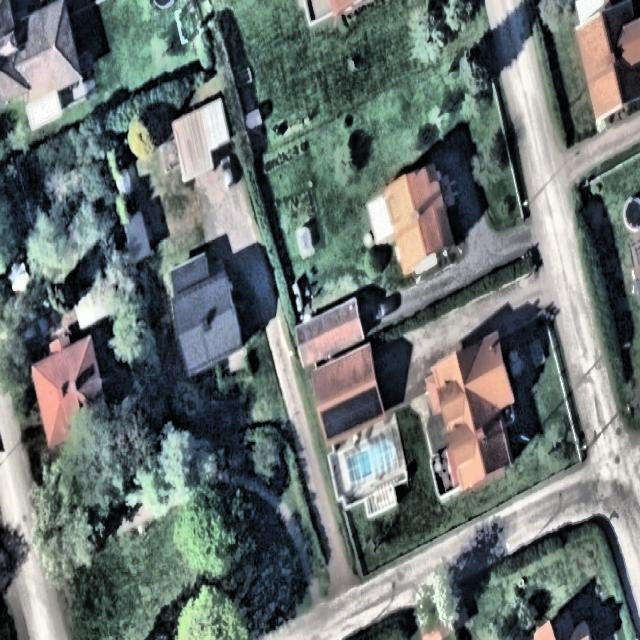roof_pv: (320, 383, 384, 441)
